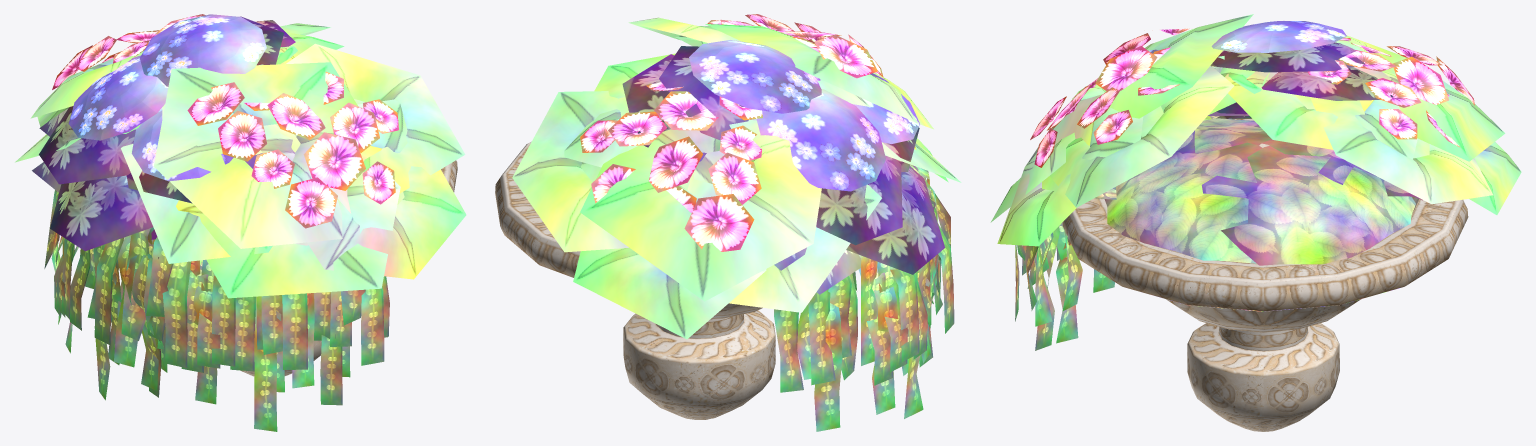
The model's file is smallbowl07_SM.fbx.
3 renders of one model, left to right at view 1: azimuth 30°, elevation 25°; view 2: azimuth 150°, elevation 25°; view 3: azimuth 270°, elevation 25°, orthographic. The views are drawn at different scales.
Visible parts, largest first — view 1: smallbowl07_SM_LOD0; view 2: smallbowl07_SM_LOD0; view 3: smallbowl07_SM_LOD0.
Boxes of the visible parts, x1,y1,x2,y2 form: smallbowl07_SM_LOD0: [15, 14, 466, 431]; smallbowl07_SM_LOD0: [495, 14, 961, 431]; smallbowl07_SM_LOD0: [990, 14, 1521, 431].
Size of the model in its own units: 175 by 201 by 157.
8 materials, 8 textured.
